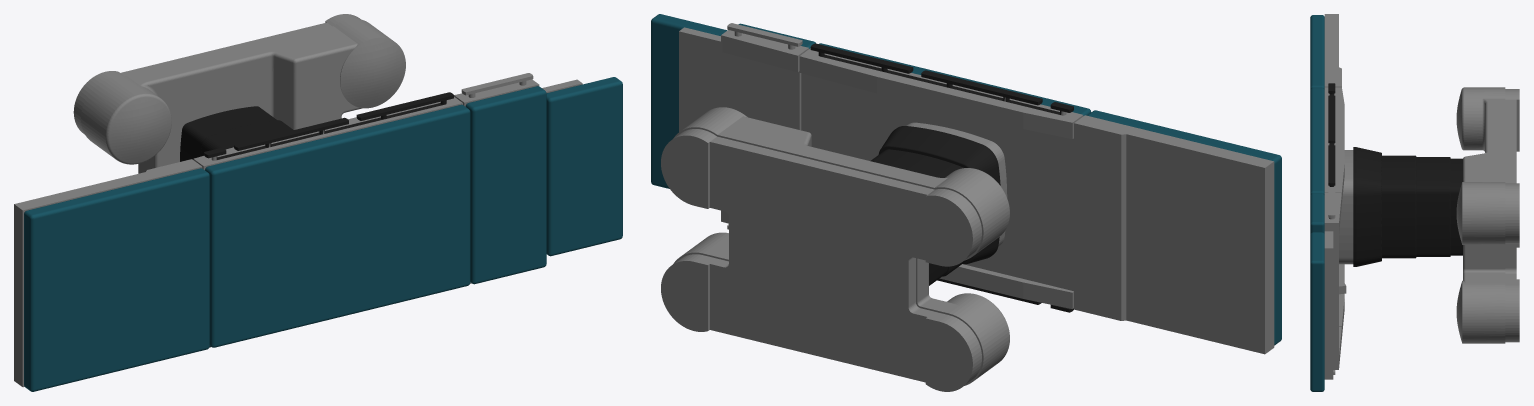
Rendered from Medical Operating Table.OBJ.
The picture shows the model from 3 angles, left to right: view 1: azimuth 30°, elevation 25°; view 2: azimuth 150°, elevation 25°; view 3: azimuth 270°, elevation 25°; orthographic projection. The views are drawn at different scales.
Visible parts, largest first — view 1: Medical_Operating_Table; view 2: Medical_Operating_Table; view 3: Medical_Operating_Table.
Boxes of the visible parts, bbox=[...] form: Medical_Operating_Table: bbox=[14, 14, 622, 391]; Medical_Operating_Table: bbox=[651, 14, 1281, 391]; Medical_Operating_Table: bbox=[1310, 14, 1519, 391].
Size of the model in its own units: 198 by 61.5 by 73.
